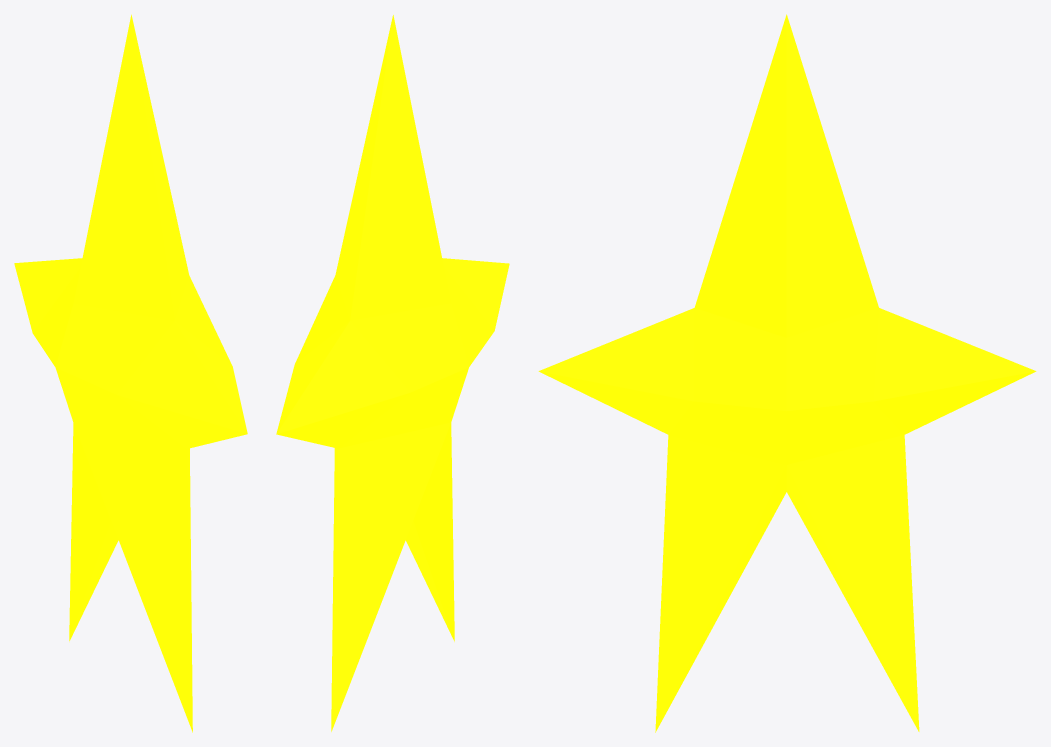
The model's file is tall_star_28.glb.
The picture shows the model from 3 angles, left to right: view 1: azimuth 30°, elevation 25°; view 2: azimuth 150°, elevation 25°; view 3: azimuth 270°, elevation 25°; orthographic projection. The views are drawn at different scales.
Visible parts, largest first — view 1: tall_star_28; view 2: tall_star_28; view 3: tall_star_28.
Boxes of the visible parts, bbox=[...] form: tall_star_28: bbox=[14, 14, 247, 732]; tall_star_28: bbox=[276, 15, 509, 731]; tall_star_28: bbox=[538, 14, 1036, 732].
Size of the model in its own units: 1.43 by 6.03 by 3.79.
